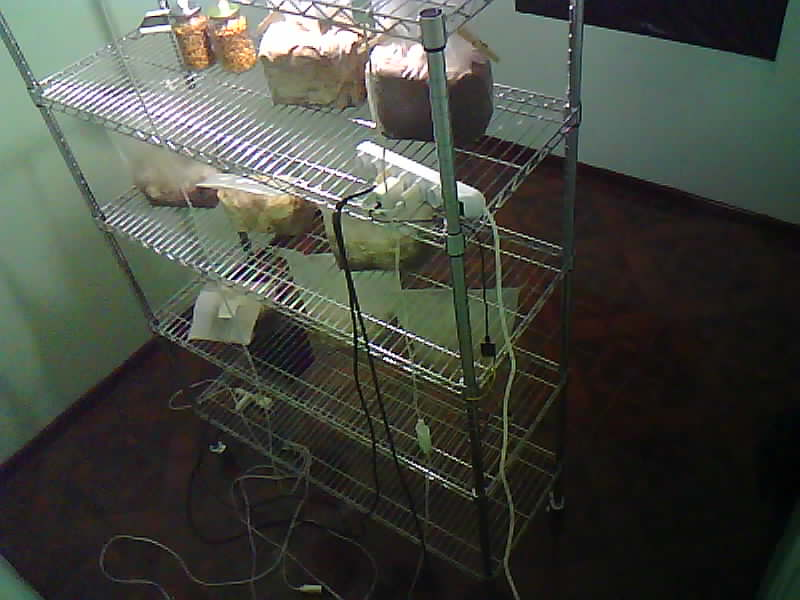bloco: (374, 3, 503, 152), (400, 282, 540, 404), (79, 90, 216, 210), (257, 6, 370, 119), (303, 242, 405, 365), (201, 154, 313, 255), (310, 192, 439, 278), (190, 261, 284, 346)
